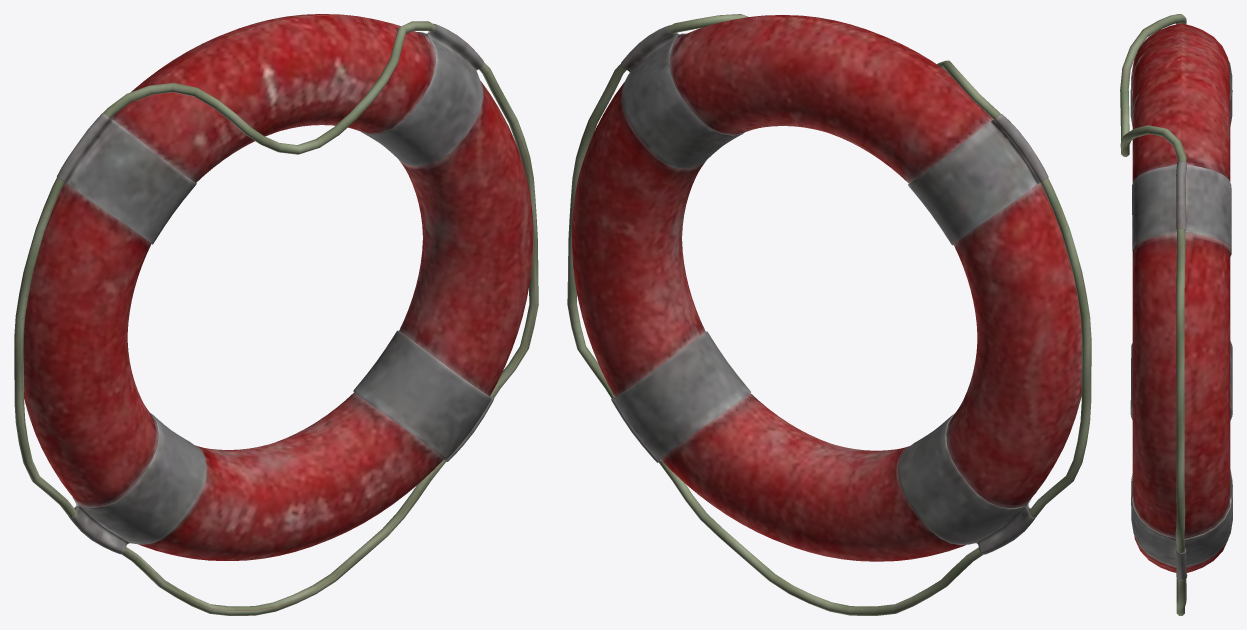
File: p_lifebuoy.glb
The picture shows the model from 3 angles, left to right: view 1: azimuth 30°, elevation 25°; view 2: azimuth 150°, elevation 25°; view 3: azimuth 270°, elevation 25°; orthographic projection. The views are drawn at different scales.
Parts seen in each view (by area): view 1: lifebuoy; view 2: lifebuoy; view 3: lifebuoy.
Boxes of the visible parts, bbox=[...] form: lifebuoy: bbox=[14, 14, 538, 615]; lifebuoy: bbox=[567, 14, 1091, 615]; lifebuoy: bbox=[1120, 14, 1232, 615].
Size of the model in its own units: 0.7831 by 0.8412 by 0.1551.
Materials: 1 (1 with a texture image).
